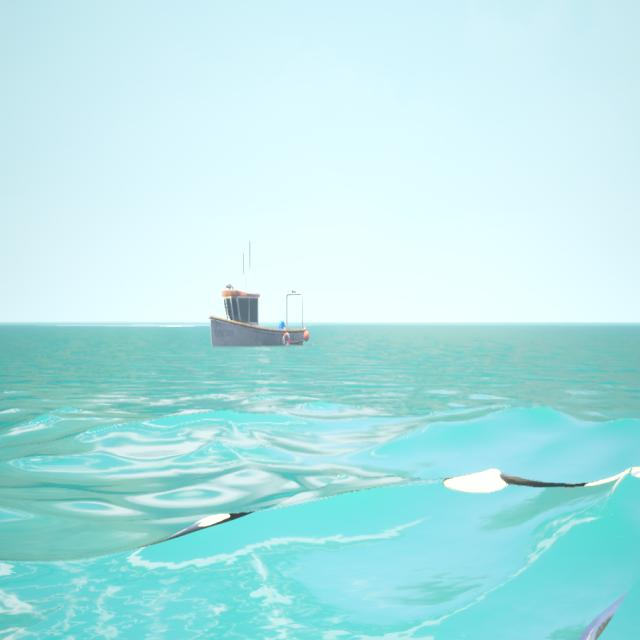ship: (203, 236, 316, 366)
